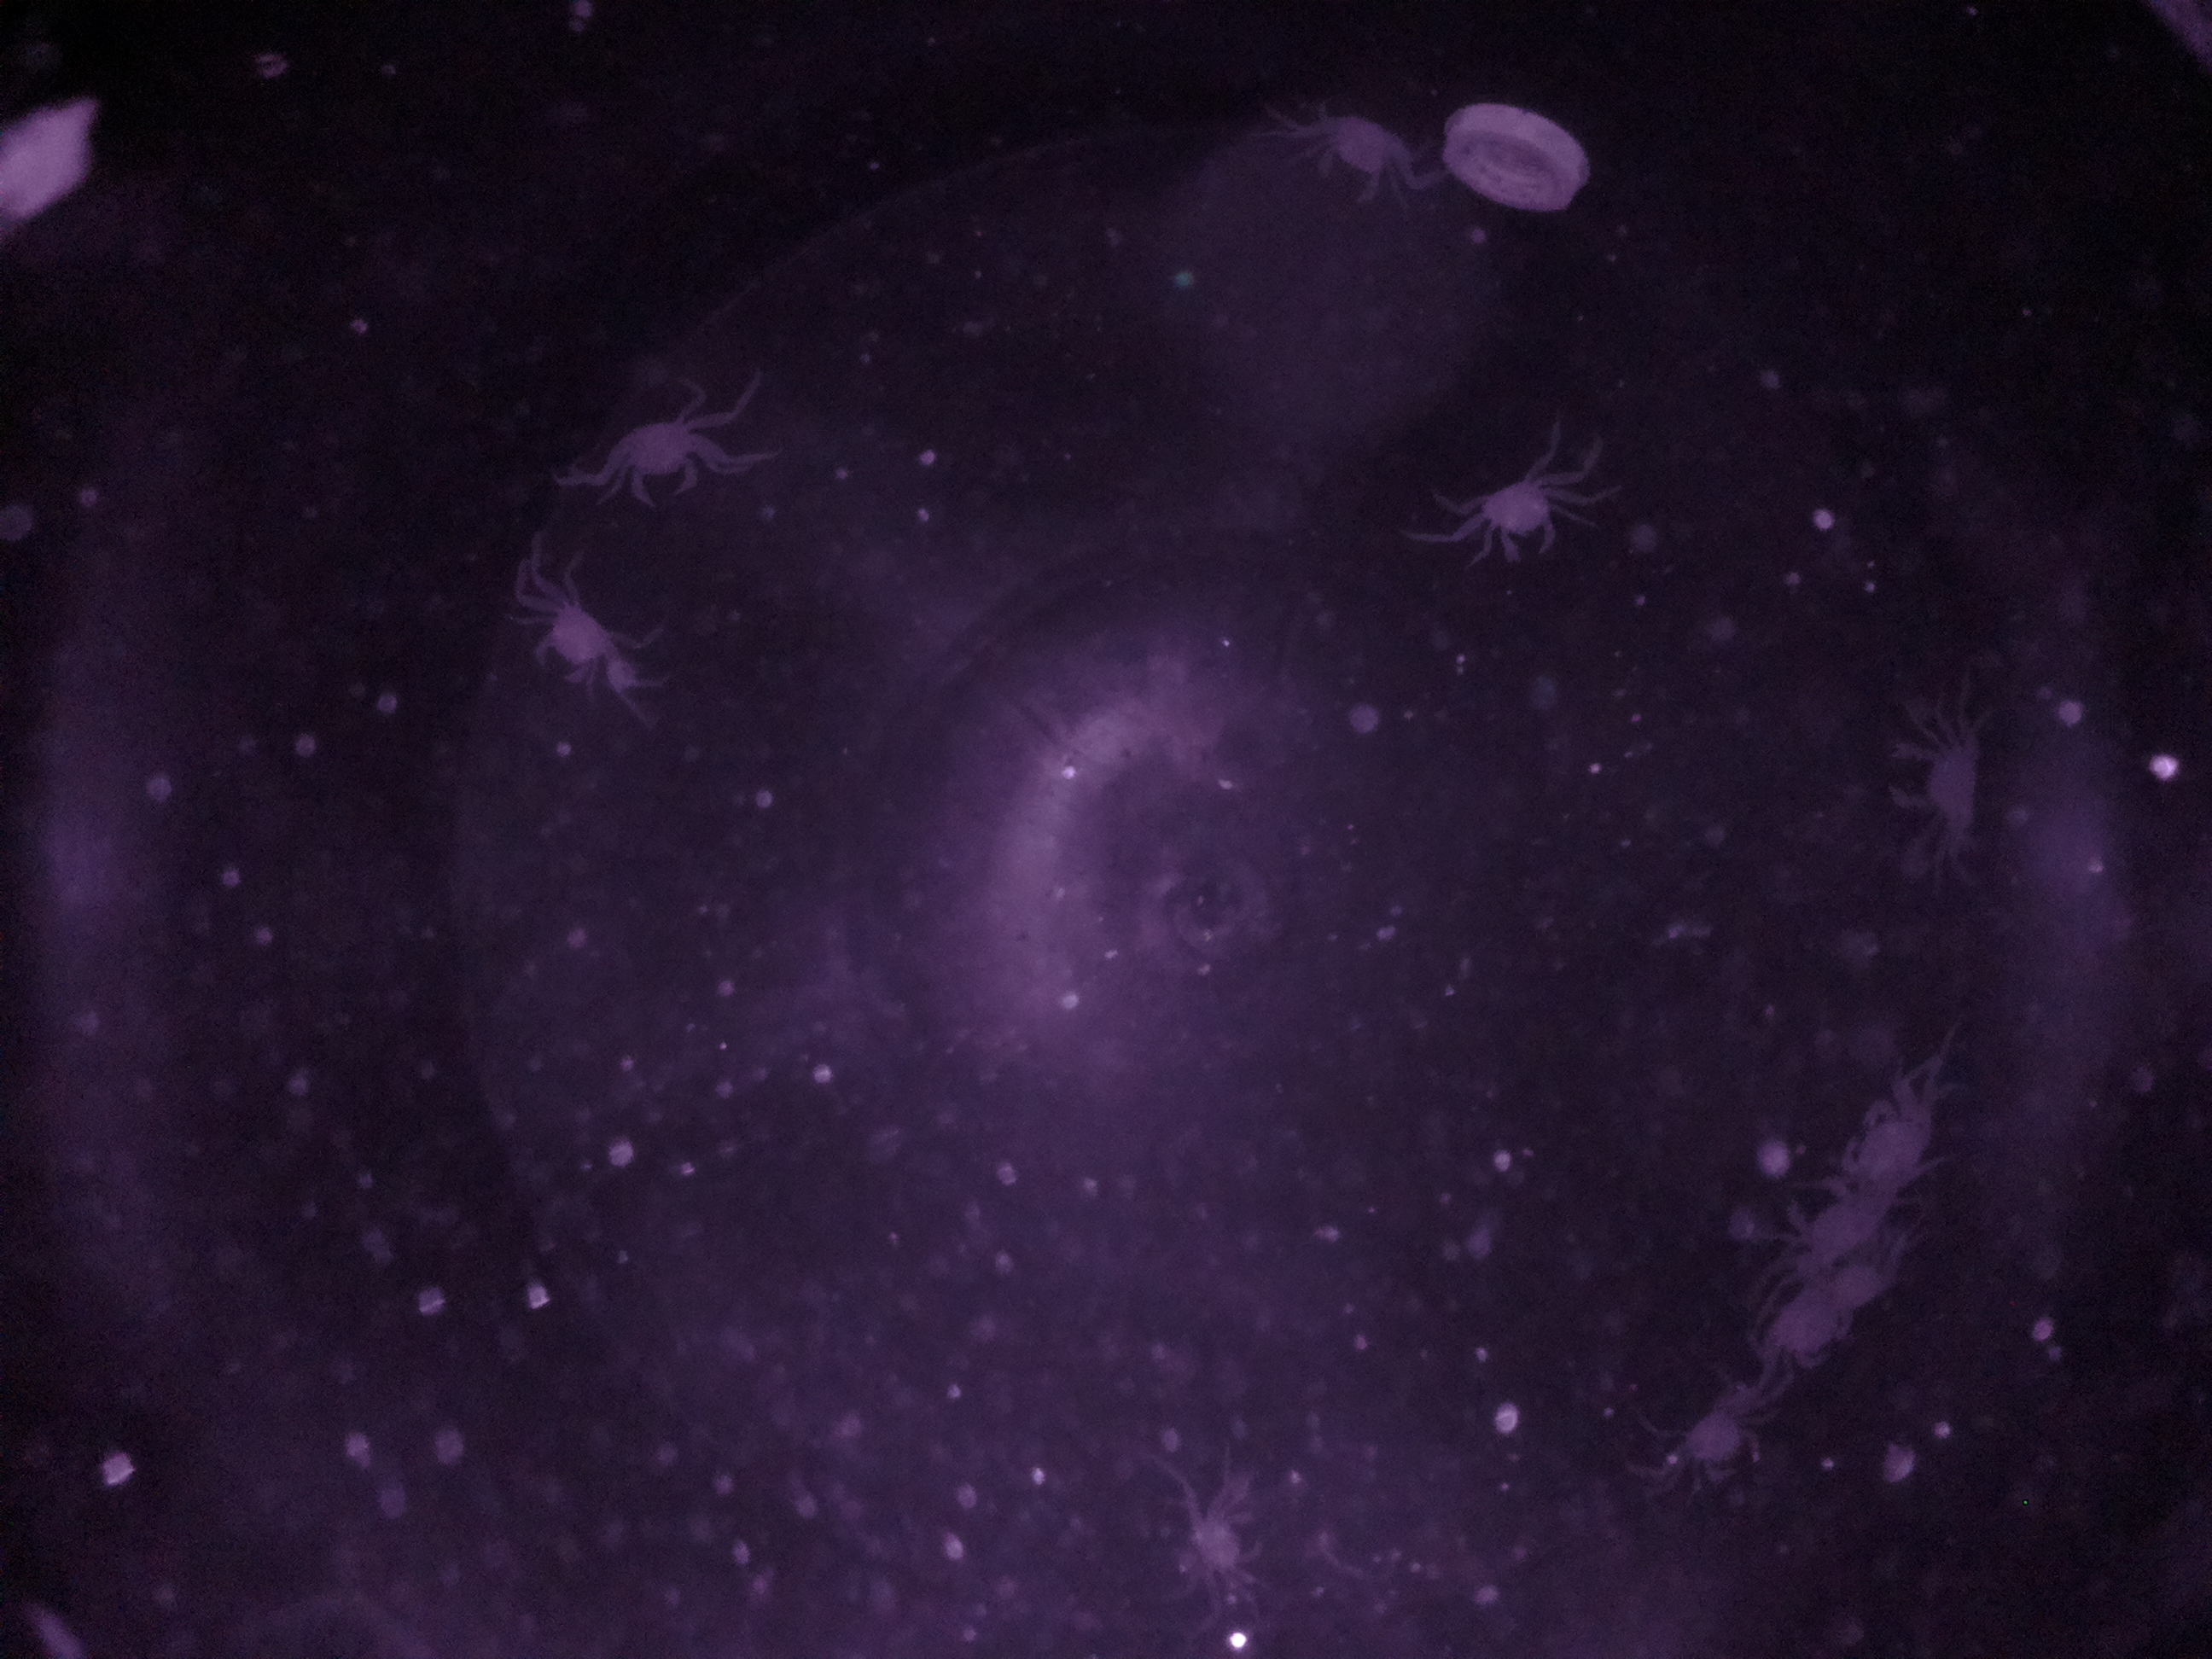Crab: (592, 396, 718, 523), (1771, 1164, 1890, 1281), (1303, 101, 1416, 220), (528, 580, 634, 706), (1881, 728, 2000, 836), (1662, 1384, 1766, 1495), (1477, 460, 1573, 575), (1177, 1493, 1292, 1589)
